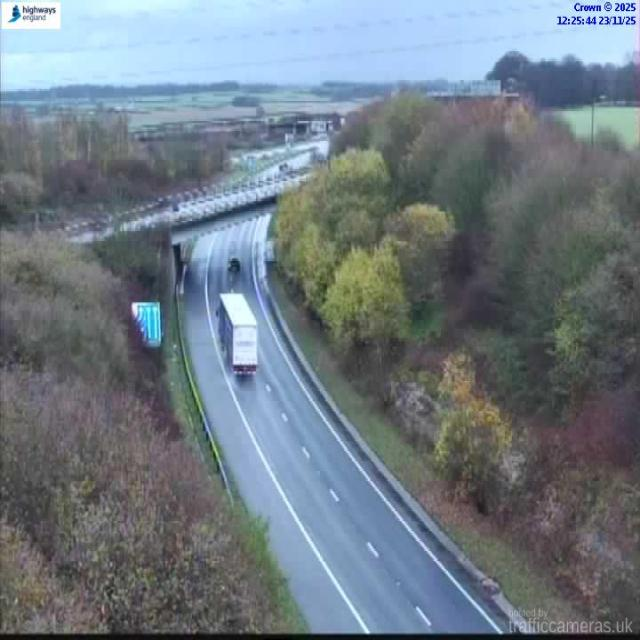foliage: (275, 92, 639, 631), (0, 232, 305, 636), (0, 108, 228, 226)
